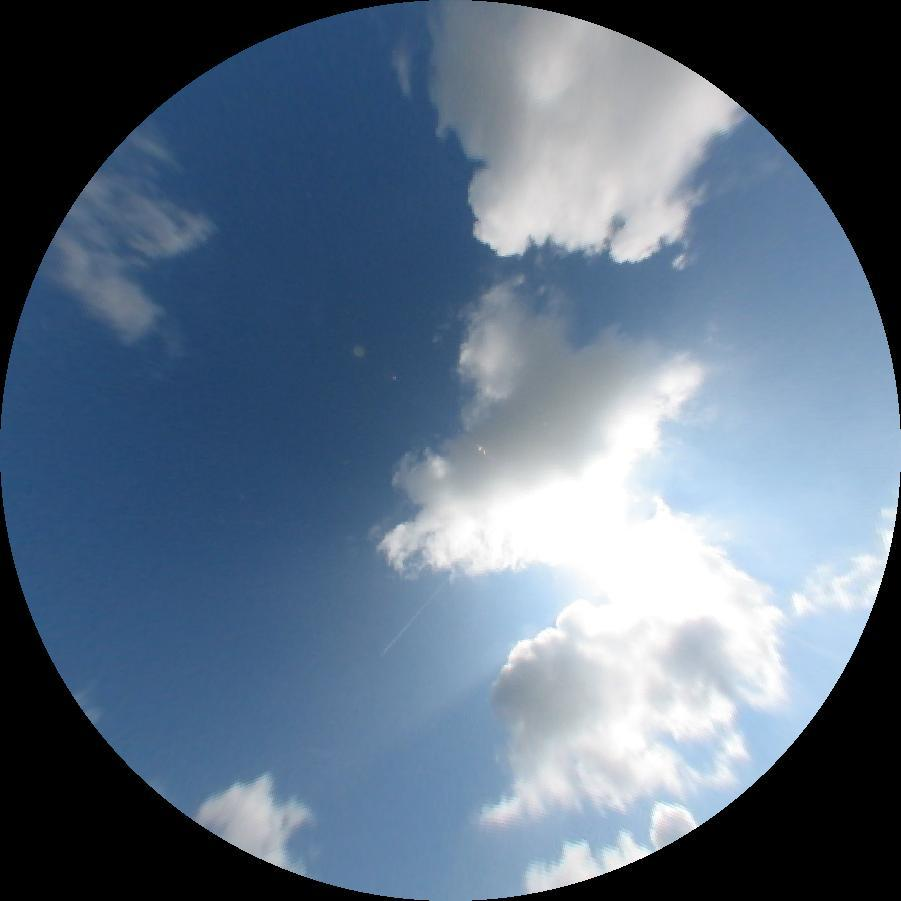contrail young: (380, 577, 449, 658), (304, 747, 328, 755)
